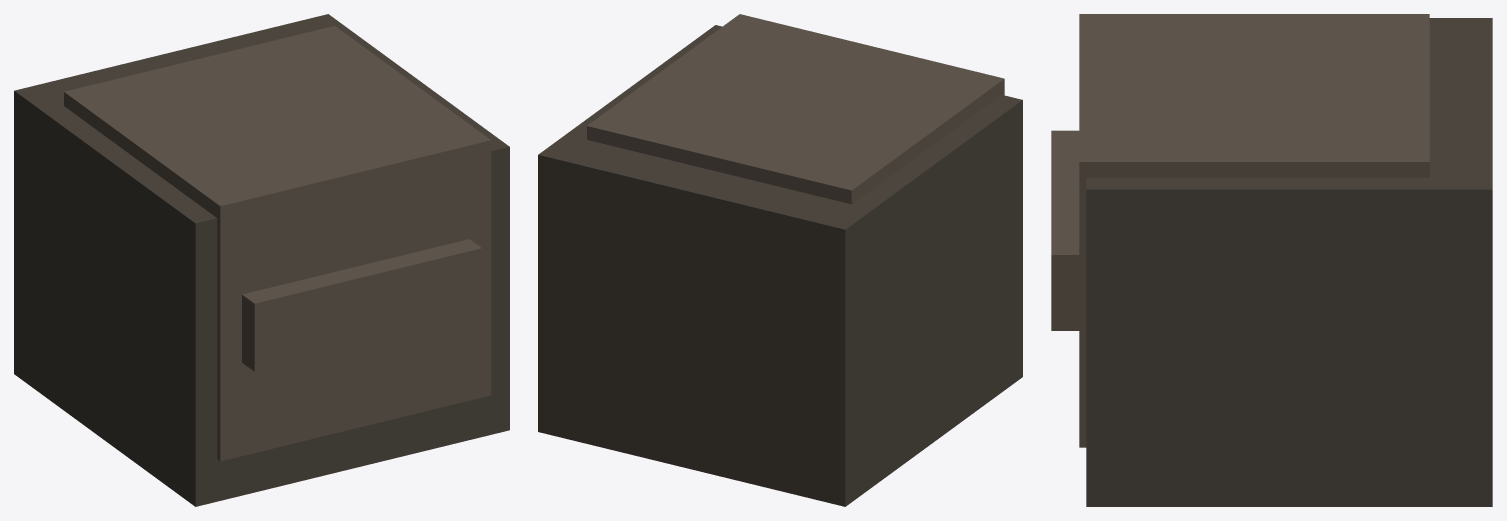
Rendered from head_vagrant_01.obj.
The picture shows the model from 3 angles, left to right: view 1: azimuth 30°, elevation 25°; view 2: azimuth 150°, elevation 25°; view 3: azimuth 270°, elevation 25°; orthographic projection. The views are drawn at different scales.
Bounding box in the file's own units: 0.58 × 0.525 × 0.63.
